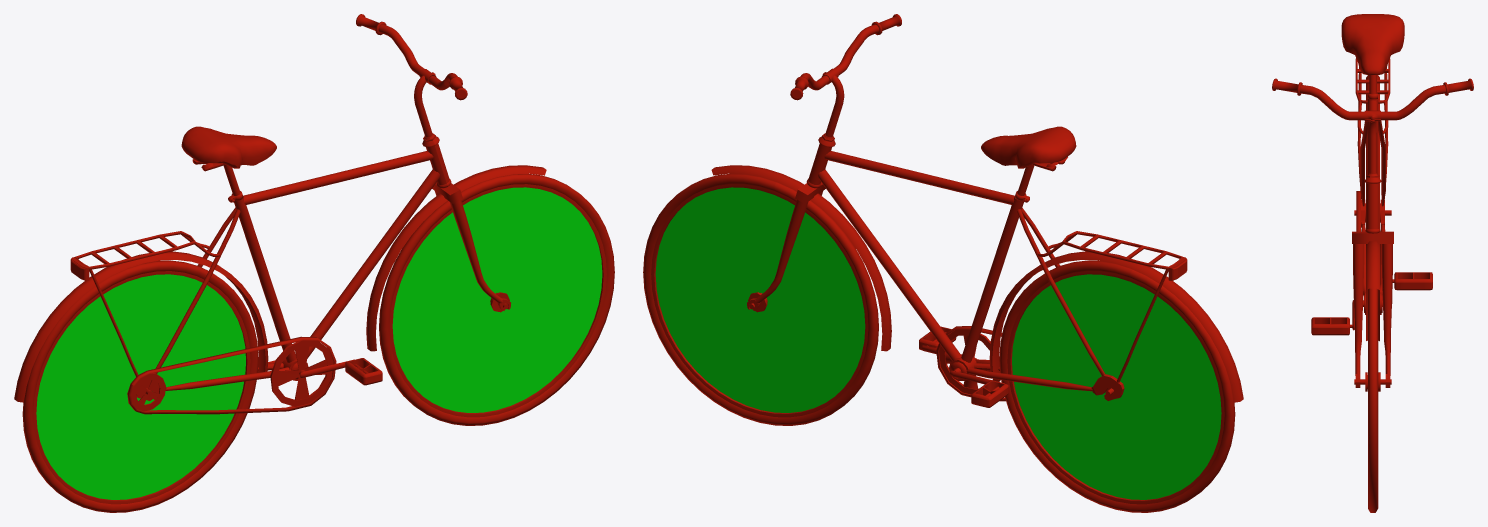
Rendered from Bicycle.dae.
3 renders of one model, left to right at view 1: azimuth 30°, elevation 25°; view 2: azimuth 150°, elevation 25°; view 3: azimuth 270°, elevation 25°, orthographic. The views are drawn at different scales.
Parts seen in each view (by area): view 1: Frame, FrontSpokes, RearSpokes; view 2: Frame, FrontSpokes, RearSpokes; view 3: Frame.
Part boxes in pixels (bbox=[...]): Frame: bbox=[14, 14, 614, 512]; FrontSpokes: bbox=[392, 187, 602, 412]; RearSpokes: bbox=[36, 274, 245, 499]; Frame: bbox=[643, 14, 1243, 512]; FrontSpokes: bbox=[655, 187, 865, 412]; RearSpokes: bbox=[1012, 274, 1221, 499]; Frame: bbox=[1272, 14, 1473, 512].
Bounding box in the file's own units: 2 × 0.6015 × 1.25.
